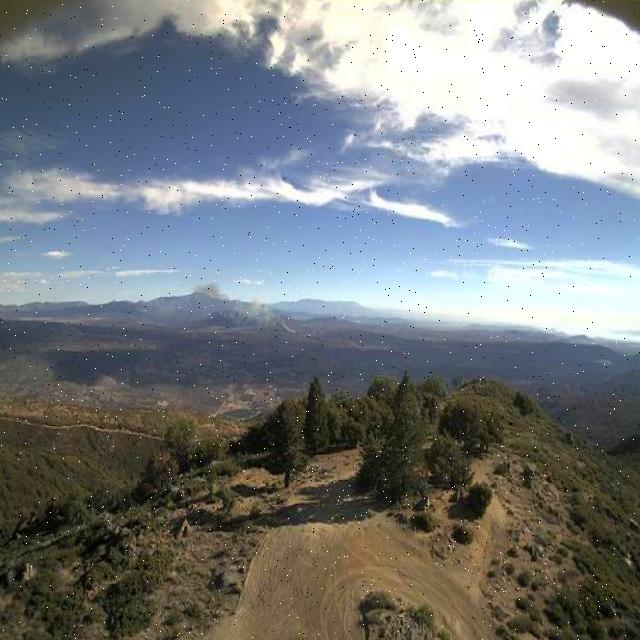smoke: (184, 277, 297, 338)
